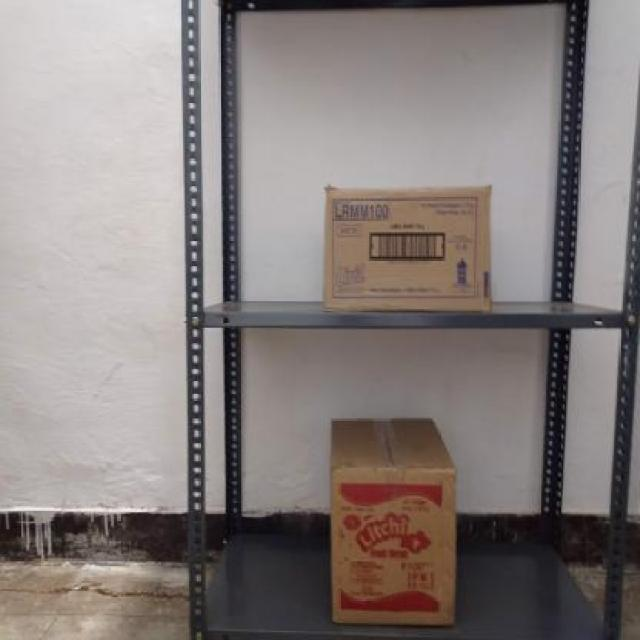box: (324, 184, 496, 314), (333, 468, 458, 624)
